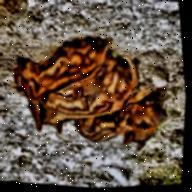boar: (76, 89, 180, 170)
